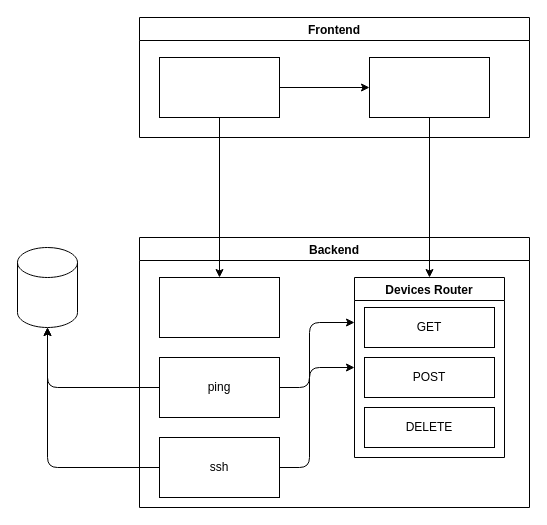
Some shapes in this 547 by 525 pixel diagram are drawn without their labels. Here are the shapes that lost their labels. From the top down, the centre of each, then its label:
At (x=219, y=87): "Vue".
At (x=429, y=87): "axios".
At (x=47, y=287): "router".
At (x=219, y=307): "static".
